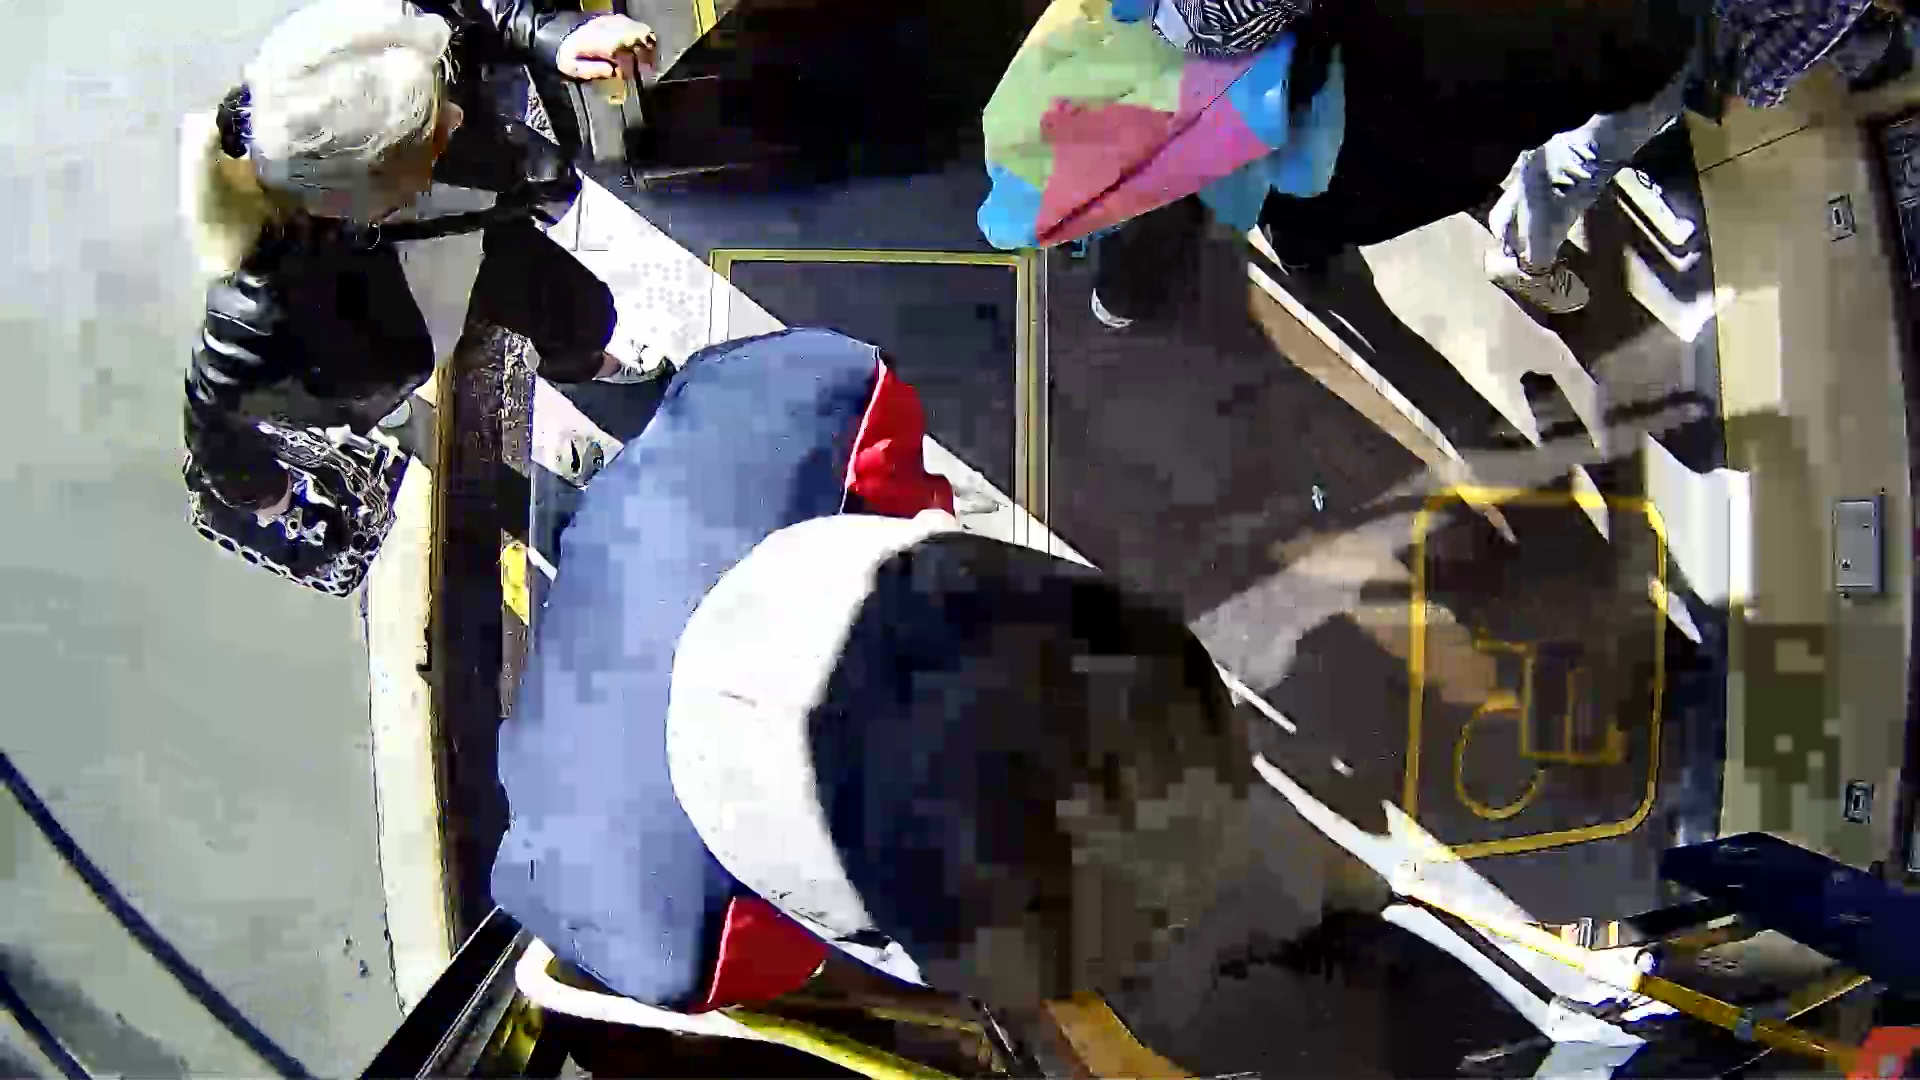person: (493, 382, 1295, 1008), (180, 22, 661, 547)
